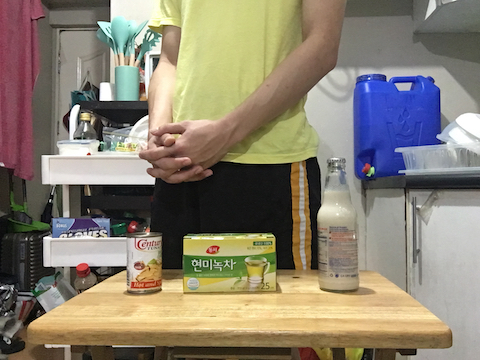bottle: (316, 155, 360, 296)
box: (177, 232, 282, 297)
can: (123, 229, 166, 297)
